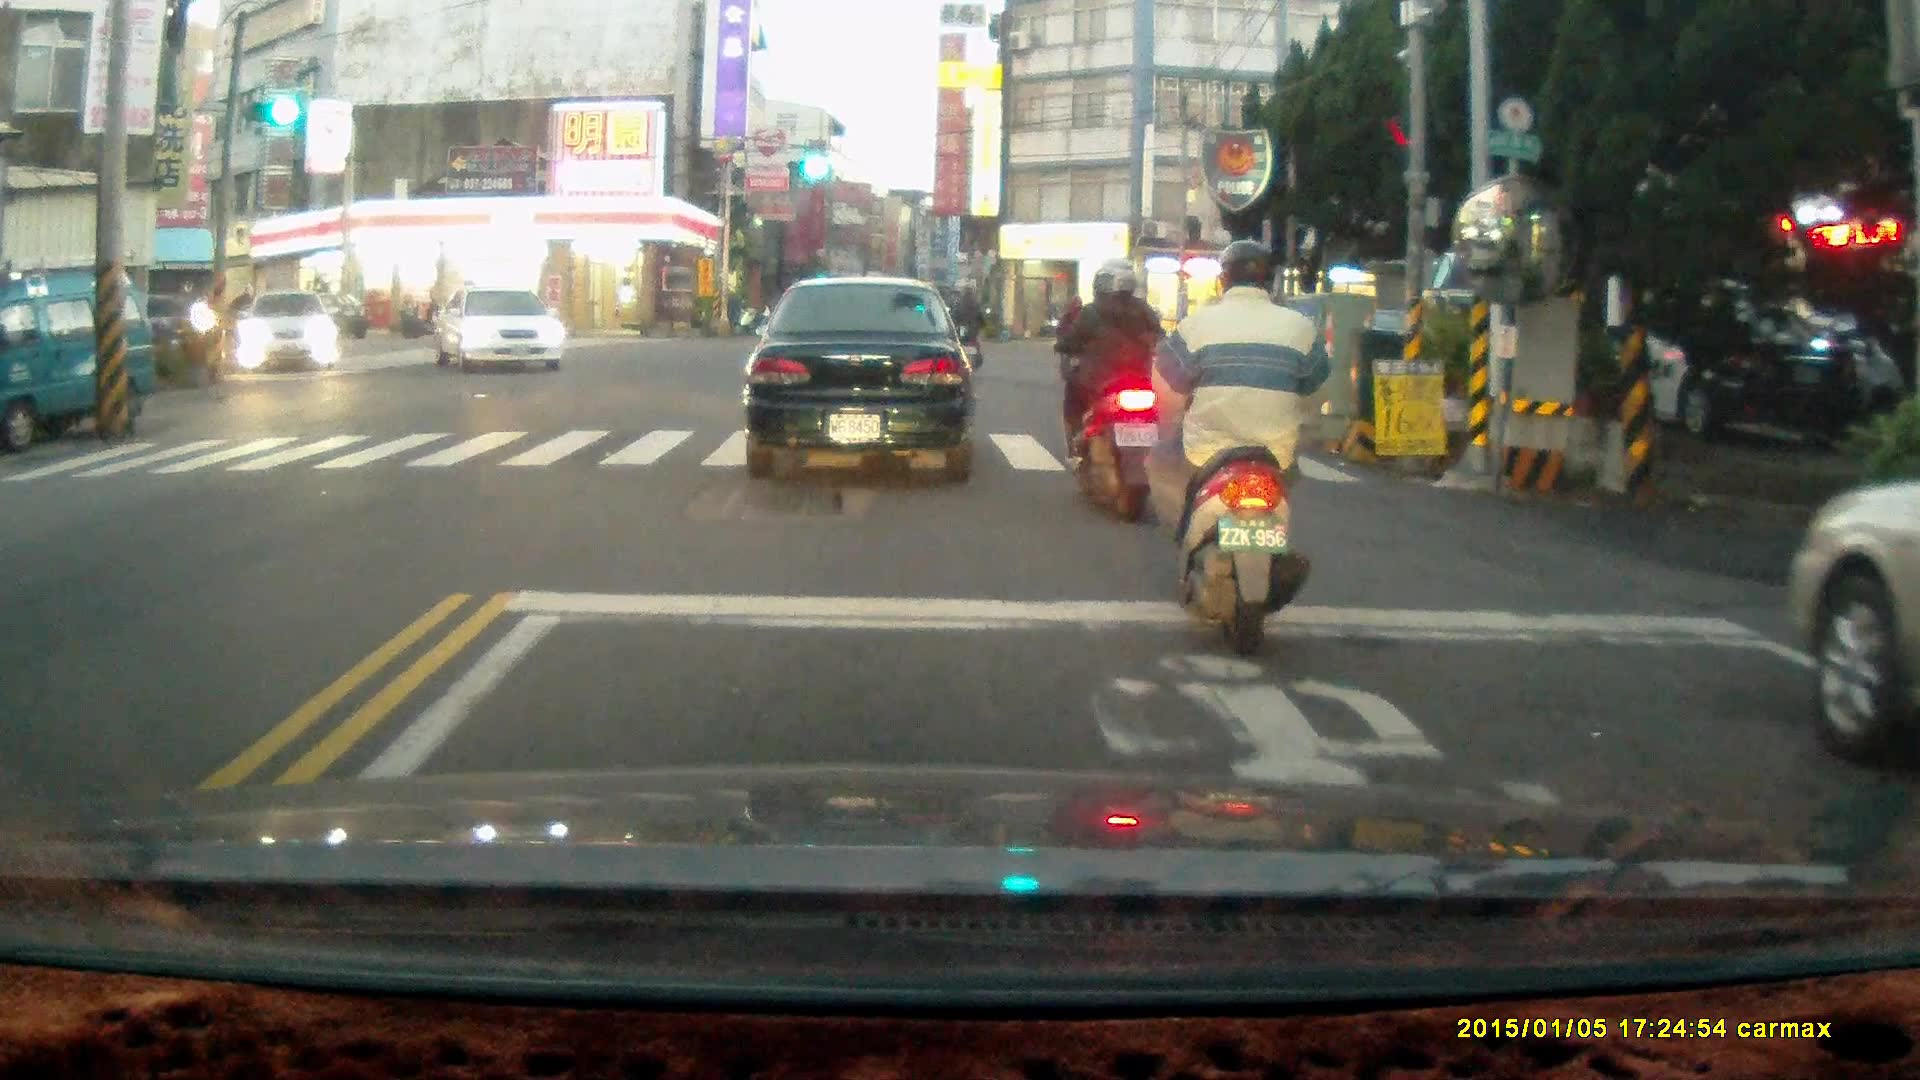rider: (1141, 234, 1337, 642), (1038, 256, 1174, 523), (942, 287, 990, 379)
vehicle: (1546, 276, 1866, 434), (742, 276, 975, 481), (1777, 477, 1920, 774), (1, 266, 160, 457), (434, 289, 568, 375), (234, 292, 343, 377)
